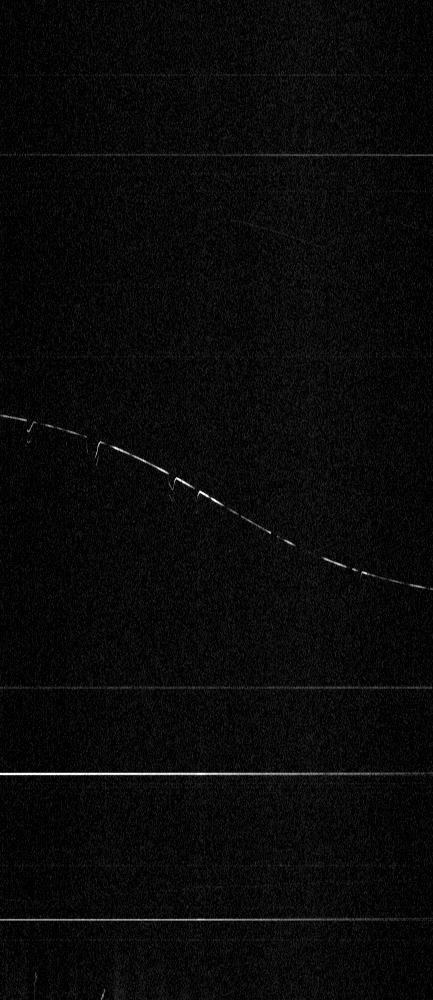signal: (0, 0, 432, 999)
